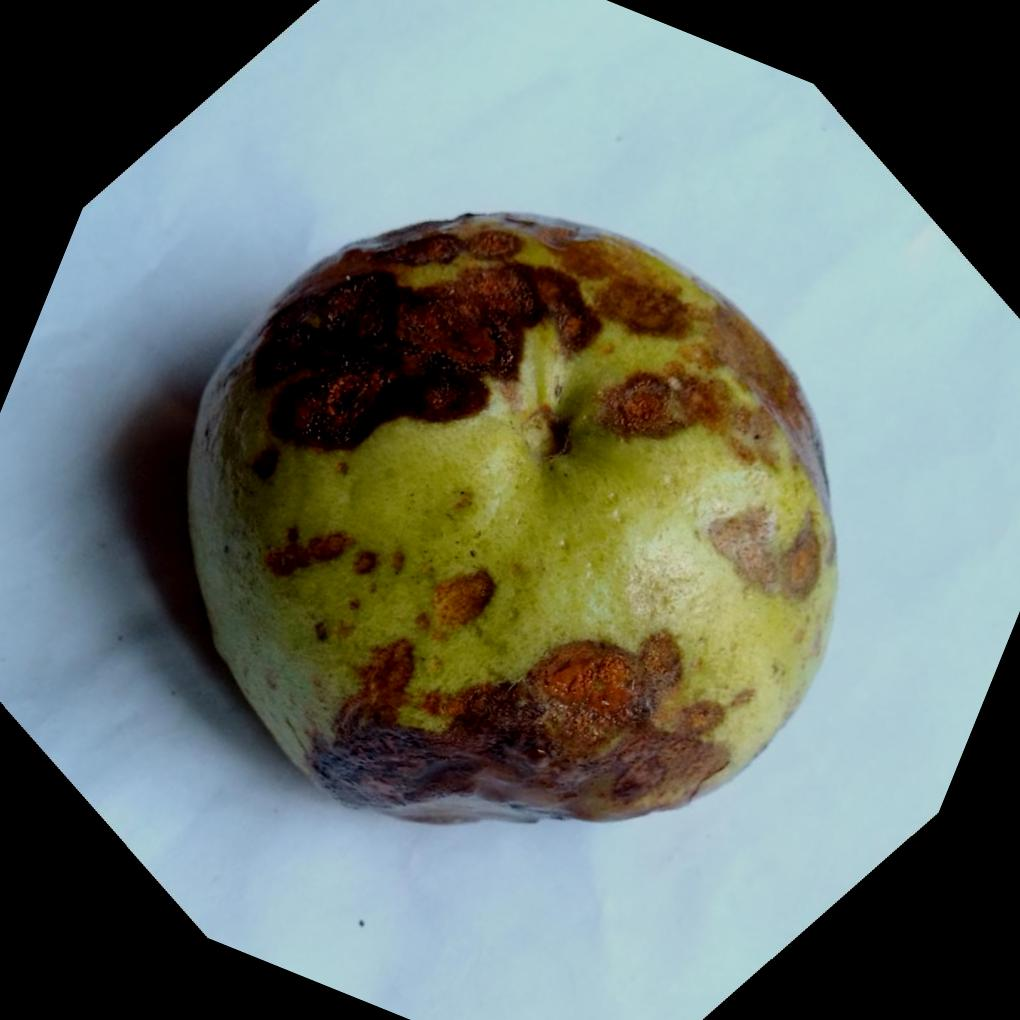FreshOrange: (187, 211, 843, 827)
